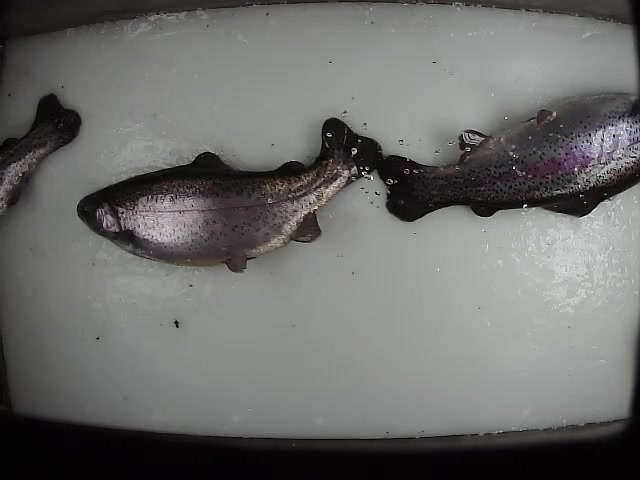fish: (75, 116, 382, 275)
